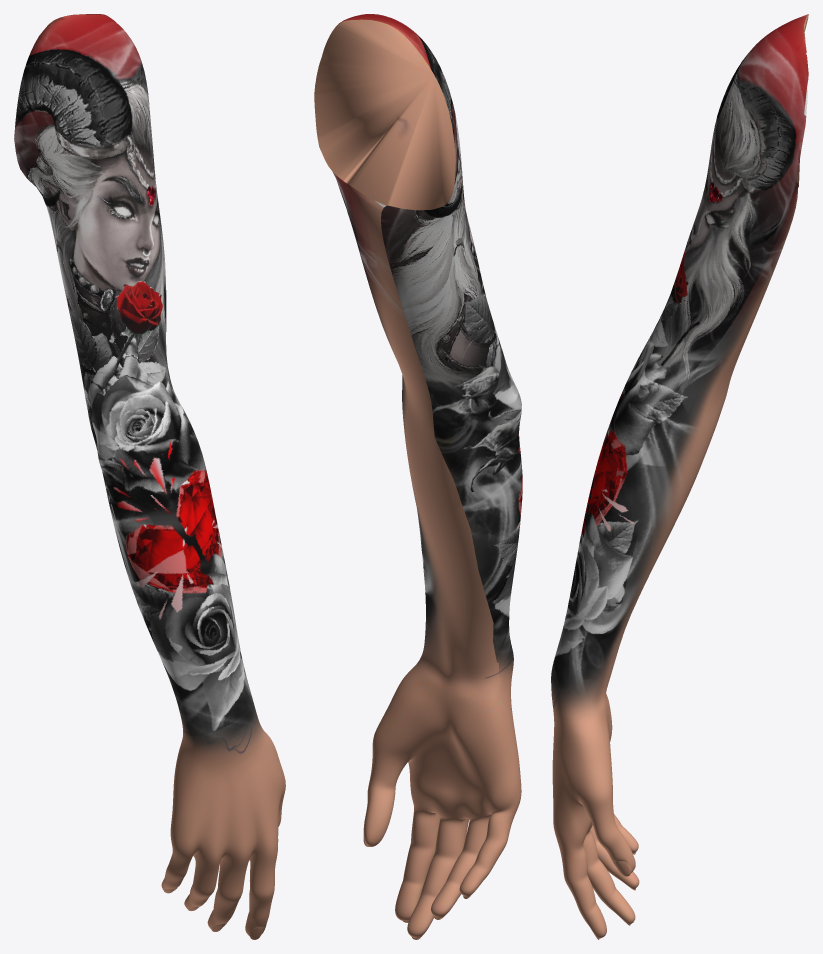
The model's file is tattooed-arm.glb.
The picture shows the model from 3 angles, left to right: view 1: azimuth 30°, elevation 25°; view 2: azimuth 150°, elevation 25°; view 3: azimuth 270°, elevation 25°; orthographic projection. The views are drawn at different scales.
Parts seen in each view (by area): view 1: Object_2; view 2: Object_2; view 3: Object_2.
Boxes of the visible parts, left/top/right/bottom form: Object_2: left=14, top=14, right=285, bottom=939; Object_2: left=314, top=14, right=522, bottom=939; Object_2: left=551, top=14, right=808, bottom=939.
Size of the model in its own units: 0.3297 by 1.61 by 0.429.
1 material, 1 textured.
